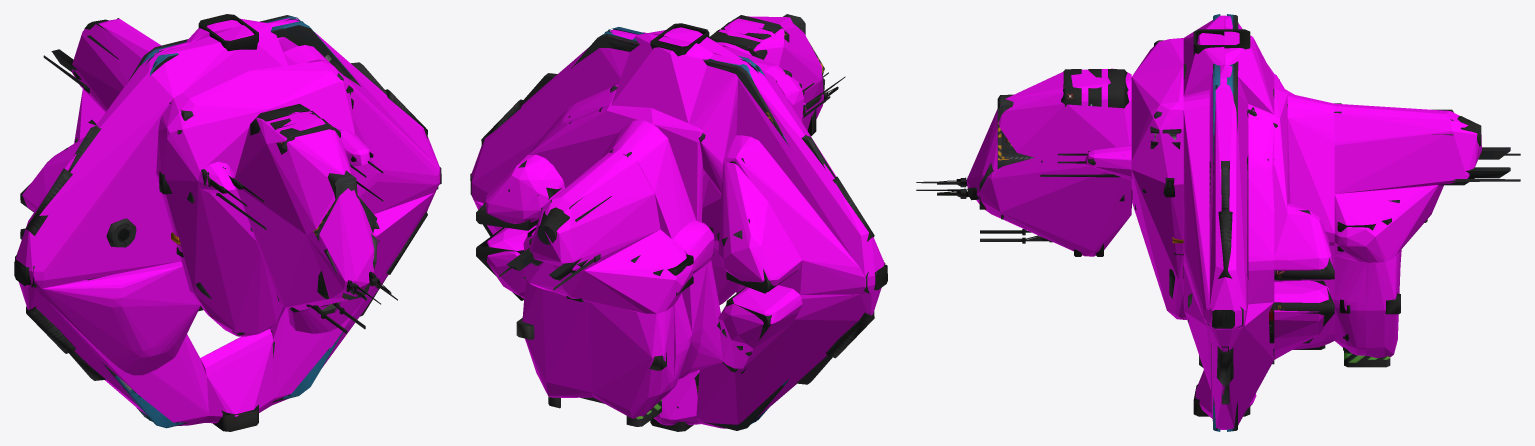
File: Outpost.glb
3 views of the same model, side by side, from view 1: azimuth 30°, elevation 25°; view 2: azimuth 150°, elevation 25°; view 3: azimuth 270°, elevation 25° (orthographic). The views are drawn at different scales.
Parts seen in each view (by area): view 1: COL_CoACD014, COL_CoACD000, COL_CoACD016, p1_op, COL_CoACD005, COL_CoACD034, COL_CoACD004, COL_CoACD019, COL_CoACD013, COL_CoACD017, COL_CoACD030, COL_CoACD029 (+6 smaller); view 2: p1_op, COL_CoACD004, COL_CoACD017, COL_CoACD000, COL_CoACD010, COL_CoACD002, COL_CoACD033, COL_CoACD020, COL_CoACD027, COL_CoACD003, COL_CoACD024, COL_CoACD018 (+15 smaller); view 3: COL_CoACD016, p1_op, COL_CoACD014, COL_CoACD017, COL_CoACD033, COL_CoACD020, COL_CoACD021, COL_CoACD034, COL_CoACD028, COL_CoACD030, COL_CoACD024, COL_CoACD032 (+7 smaller).
Boxes of the visible parts, x1=… form: COL_CoACD014: x1=156, y1=61, x2=355, y2=336; COL_CoACD000: x1=15, y1=52, x2=181, y2=288; COL_CoACD016: x1=235, y1=106, x2=374, y2=310; p1_op: x1=14, y1=14, x2=441, y2=431; COL_CoACD005: x1=36, y1=261, x2=200, y2=375; COL_CoACD034: x1=283, y1=45, x2=439, y2=214; COL_CoACD004: x1=19, y1=282, x2=208, y2=425; COL_CoACD019: x1=200, y1=329, x2=273, y2=423; COL_CoACD013: x1=160, y1=23, x2=288, y2=262; COL_CoACD017: x1=71, y1=19, x2=161, y2=112; COL_CoACD030: x1=270, y1=190, x2=436, y2=405; COL_CoACD029: x1=287, y1=193, x2=433, y2=333; p1_op: x1=470, y1=14, x2=887, y2=431; COL_CoACD004: x1=696, y1=288, x2=881, y2=428; COL_CoACD017: x1=529, y1=148, x2=660, y2=271; COL_CoACD000: x1=736, y1=62, x2=884, y2=294; COL_CoACD010: x1=589, y1=302, x2=674, y2=418; COL_CoACD002: x1=719, y1=135, x2=865, y2=294; COL_CoACD033: x1=471, y1=29, x2=637, y2=202; COL_CoACD020: x1=523, y1=229, x2=693, y2=313; COL_CoACD027: x1=527, y1=105, x2=703, y2=222; COL_CoACD003: x1=718, y1=162, x2=801, y2=285; COL_CoACD024: x1=522, y1=278, x2=593, y2=397; COL_CoACD018: x1=611, y1=33, x2=713, y2=205; COL_CoACD016: x1=966, y1=68, x2=1131, y2=256; p1_op: x1=916, y1=14, x2=1520, y2=431; COL_CoACD014: x1=1131, y1=38, x2=1183, y2=319; COL_CoACD017: x1=1334, y1=103, x2=1481, y2=193; COL_CoACD033: x1=1209, y1=64, x2=1248, y2=329; COL_CoACD020: x1=1334, y1=185, x2=1443, y2=262; COL_CoACD021: x1=1287, y1=93, x2=1334, y2=245; COL_CoACD034: x1=1183, y1=89, x2=1209, y2=326; COL_CoACD028: x1=1248, y1=104, x2=1274, y2=304; COL_CoACD030: x1=1211, y1=302, x2=1274, y2=429; COL_CoACD024: x1=1366, y1=250, x2=1400, y2=357; COL_CoACD032: x1=1274, y1=280, x2=1329, y2=359.
Size of the model in its own units: 24.33 by 21.82 by 32.24.
2 materials, 1 textured.
